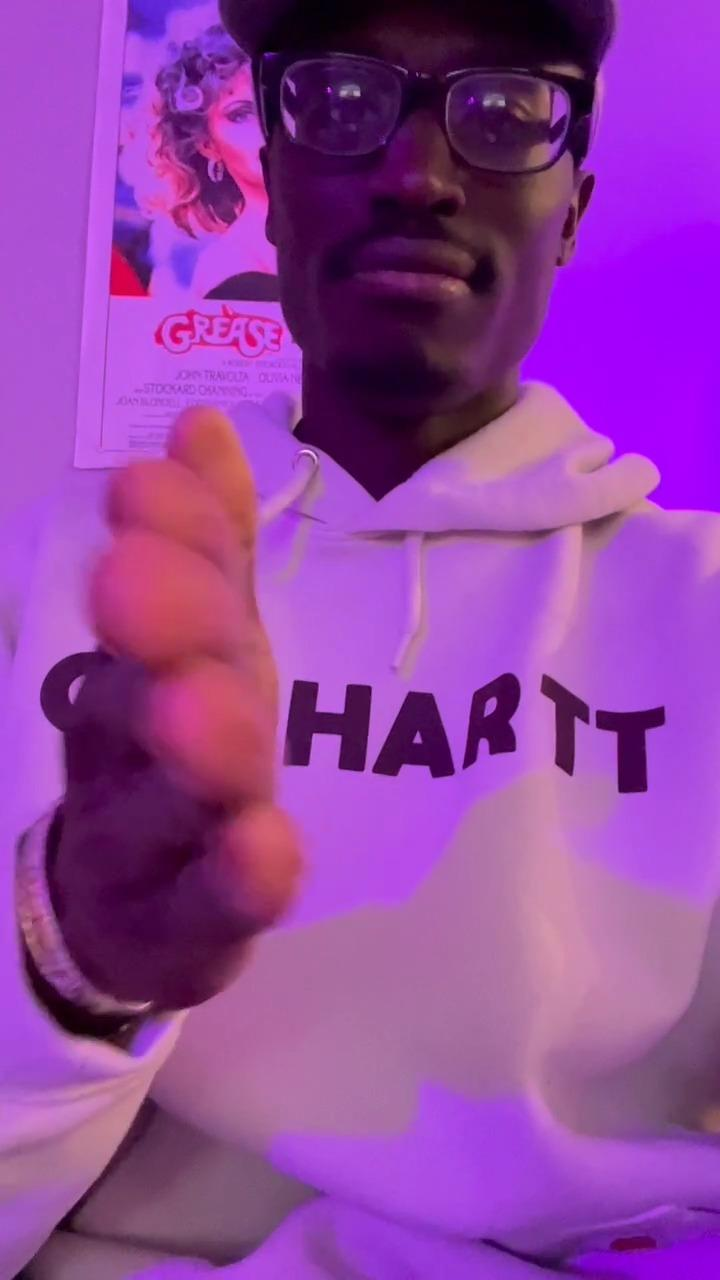Paper: (50, 404, 304, 1018)
